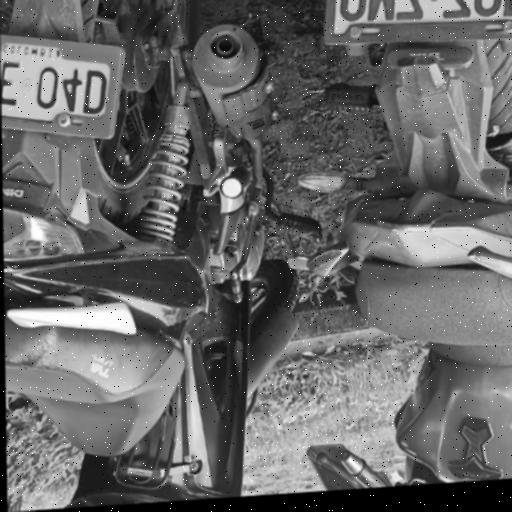placa: (0, 32, 123, 142), (323, 0, 512, 44)
